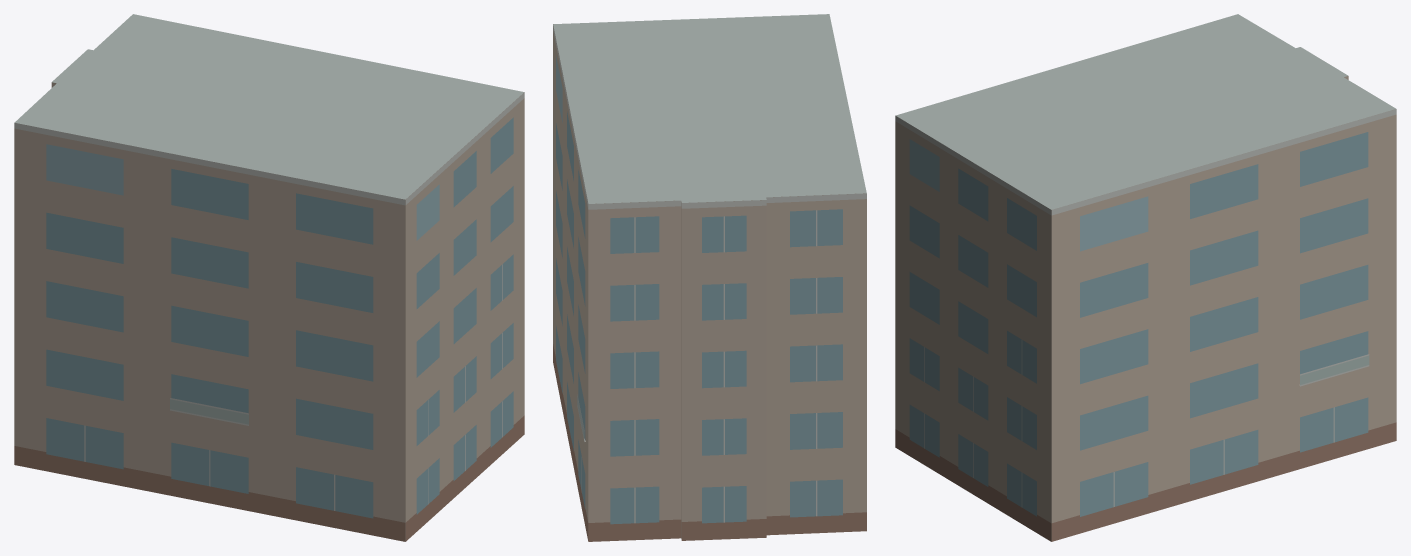
The model's file is survey-upis-32721074.glb.
The picture shows the model from 3 angles, left to right: view 1: azimuth 30°, elevation 25°; view 2: azimuth 150°, elevation 25°; view 3: azimuth 270°, elevation 25°; orthographic projection. The views are drawn at different scales.
Parts seen in each view (by area): view 1: survey-upis-32721074.tmp; view 2: survey-upis-32721074.tmp; view 3: survey-upis-32721074.tmp.
Part boxes in pixels (left/top/right/bottom): survey-upis-32721074.tmp: left=14, top=14, right=524, bottom=541; survey-upis-32721074.tmp: left=553, top=14, right=866, bottom=541; survey-upis-32721074.tmp: left=895, top=14, right=1396, bottom=541.
Size of the model in its own units: 18.11 by 14.3 by 19.57.
